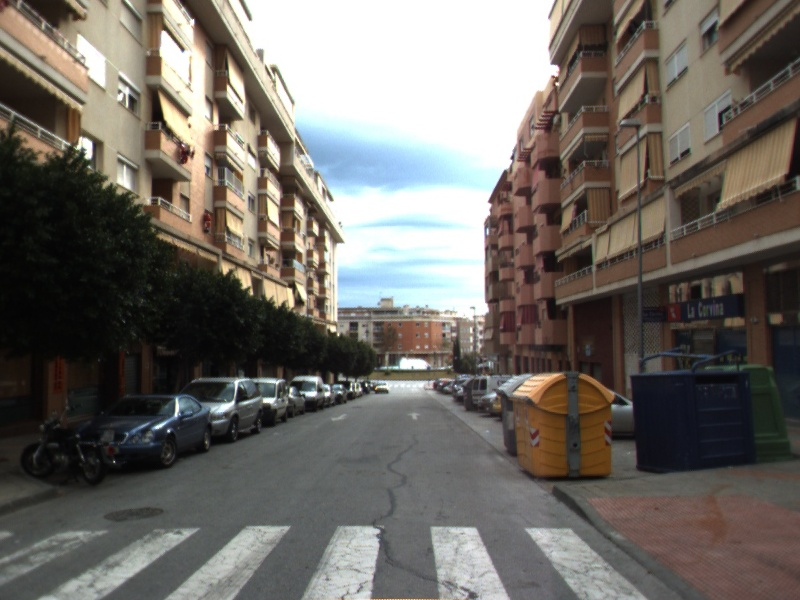STRAIGHT: (405, 410, 423, 422)
